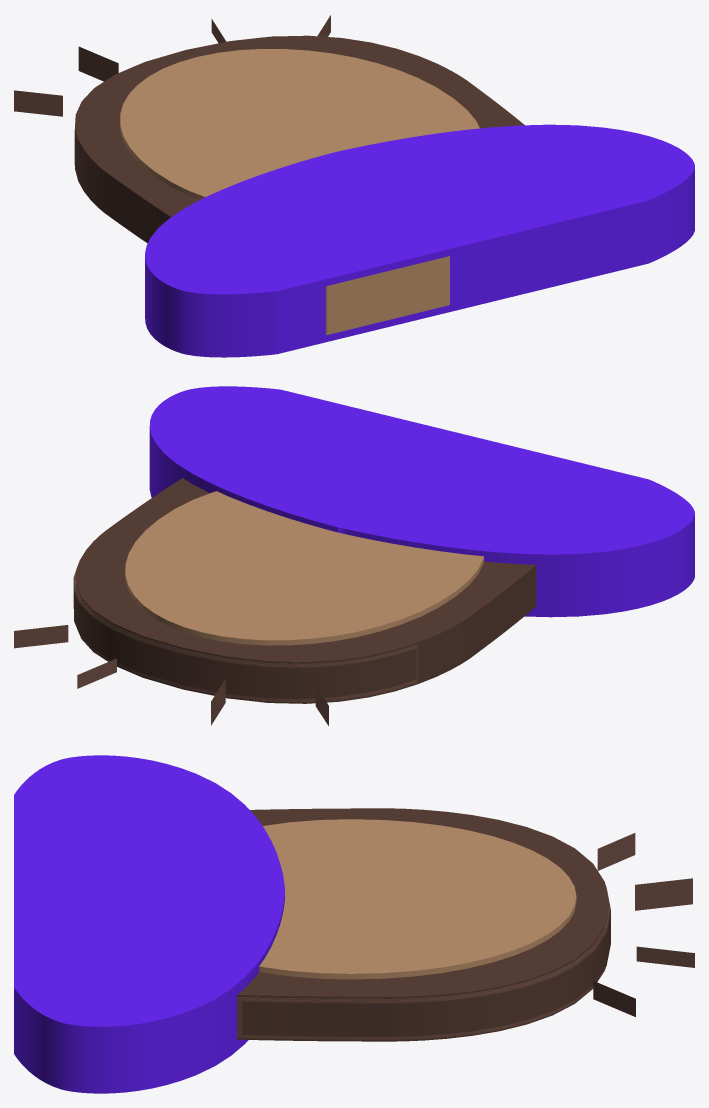
Rendered from emoji_u1f647_1f3fd_200d_2640.glb.
The picture shows the model from 3 angles, top to bottom: view 1: azimuth 30°, elevation 25°; view 2: azimuth 150°, elevation 25°; view 3: azimuth 270°, elevation 25°; orthographic projection. The views are drawn at different scales.
Parts seen in each view (by area): view 1: emoji_u1f647_1f3fd_200d_2640; view 2: emoji_u1f647_1f3fd_200d_2640; view 3: emoji_u1f647_1f3fd_200d_2640.
Part boxes in pixels (<box>): emoji_u1f647_1f3fd_200d_2640: <box>14,15,694,357</box>; emoji_u1f647_1f3fd_200d_2640: <box>14,386,694,725</box>; emoji_u1f647_1f3fd_200d_2640: <box>14,755,694,1093</box>.
Bounding box in the file's own units: 0.0313 × 0.0036 × 0.0332.
